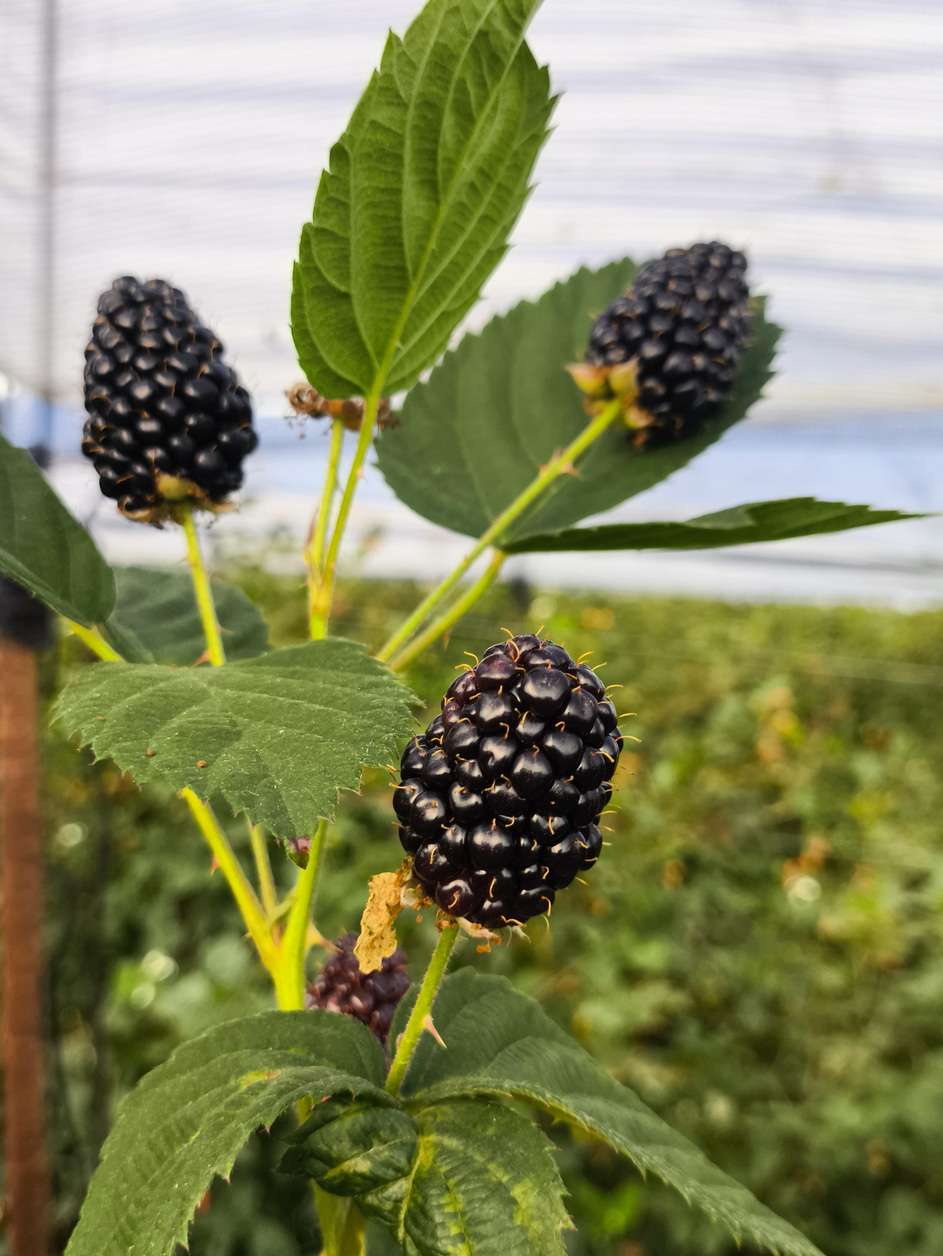maduro: (392, 640, 617, 929), (86, 274, 254, 517), (585, 242, 752, 445)
